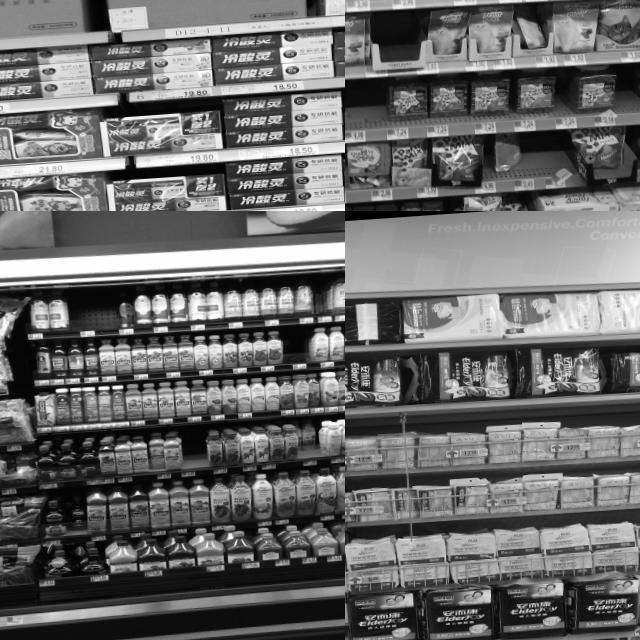empty: (518, 130, 569, 190), (348, 78, 390, 143), (71, 295, 117, 337), (617, 62, 640, 124), (181, 427, 207, 476), (284, 328, 306, 370)
